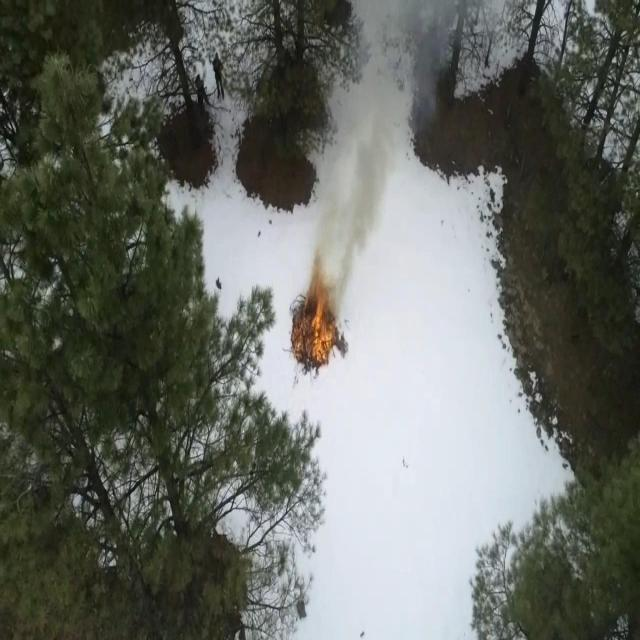Fire: (296, 290, 334, 370)
Smoke: (305, 0, 442, 289)
